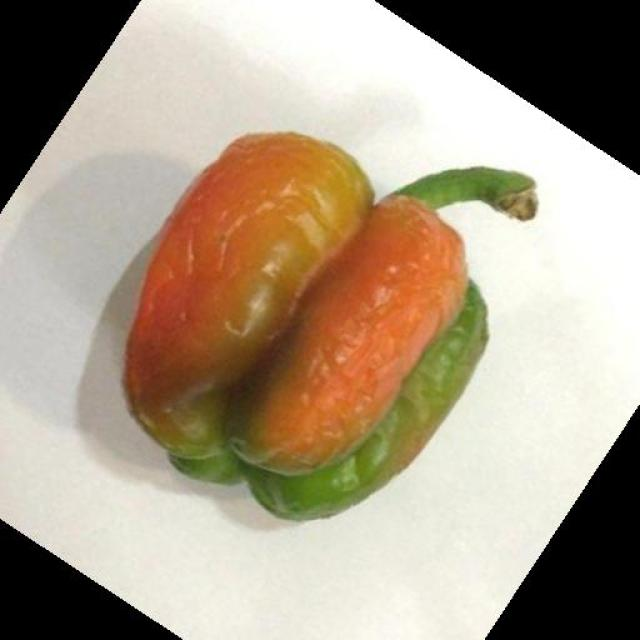Stale_Capsicum: (133, 115, 526, 534)
